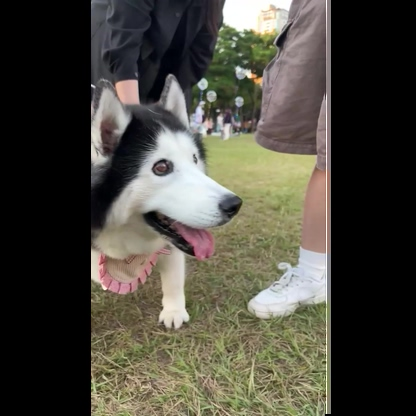husky: (93, 66, 247, 333)
